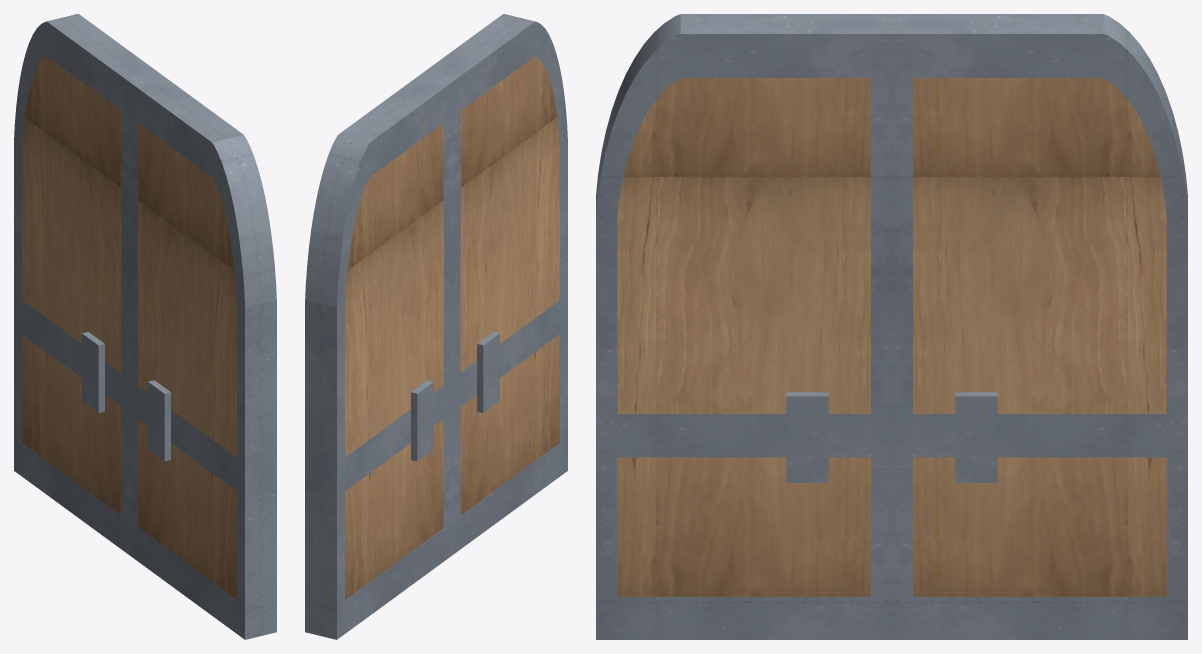
Rendered from Door_AF.fbx.
The picture shows the model from 3 angles, left to right: view 1: azimuth 30°, elevation 25°; view 2: azimuth 150°, elevation 25°; view 3: azimuth 270°, elevation 25°; orthographic projection. The views are drawn at different scales.
Visible parts, largest first — view 1: door_wide% (×2); view 2: door_wide% (×2); view 3: door_wide% (×2).
Part boxes in pixels (x1,y1,x2,y2): door_wide% (×2): (14,14,276,639); door_wide% (×2): (305,14,567,639); door_wide% (×2): (596,14,1187,639).
Size of the model in its own units: 1.4 by 14.24 by 12.6.
3 materials, 2 textured.
